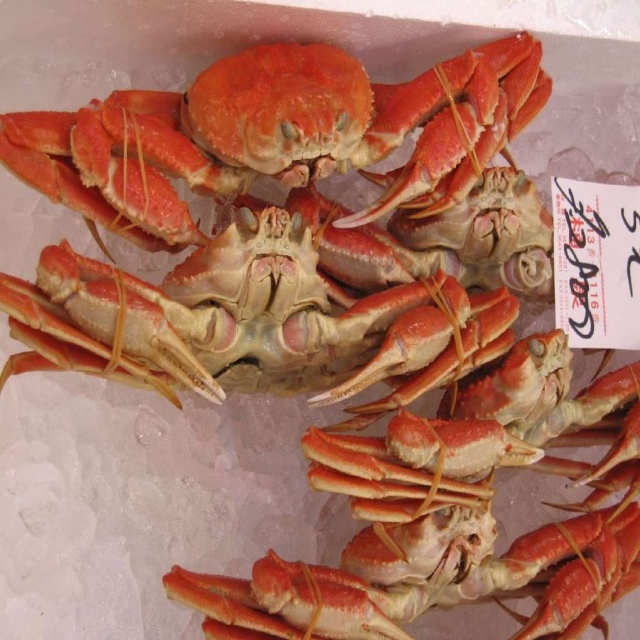Crab: (0, 31, 640, 640)
